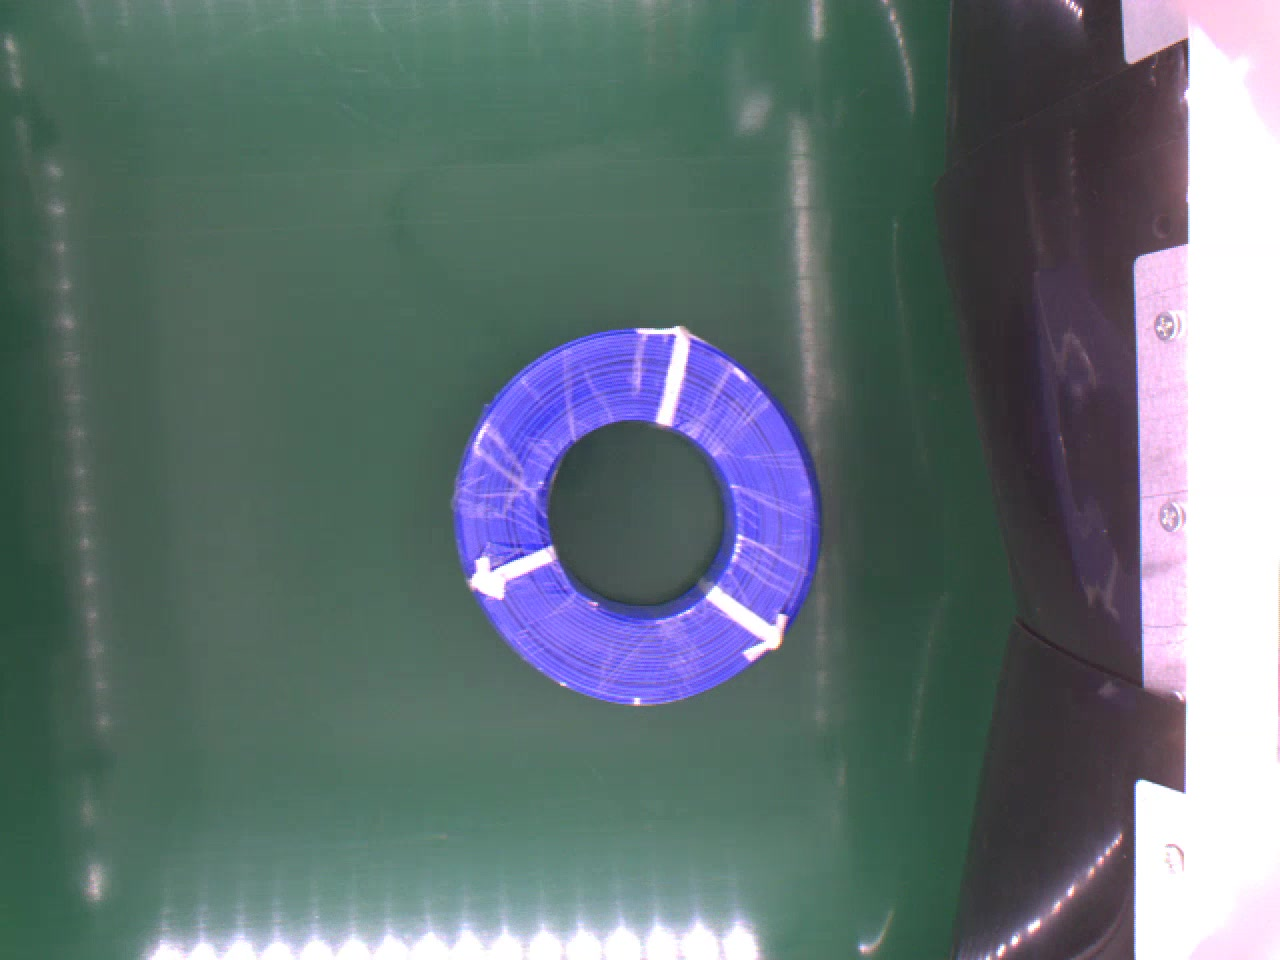blue: (453, 321, 831, 711)
